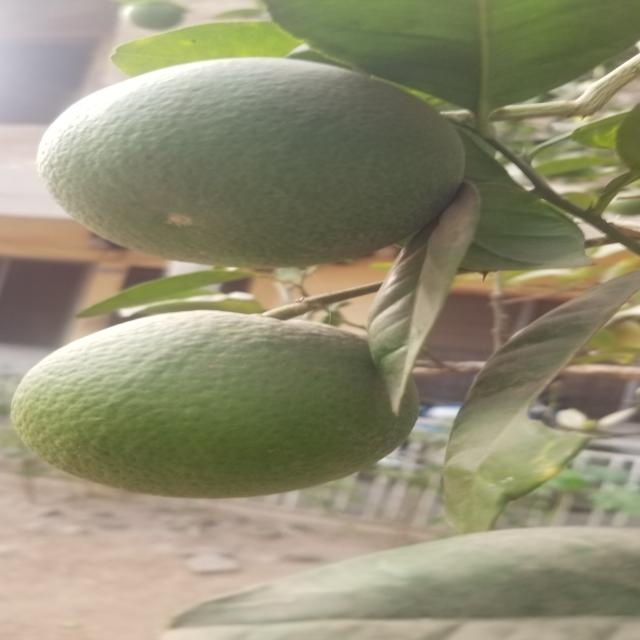agrume: (36, 62, 477, 267), (10, 313, 418, 495)
